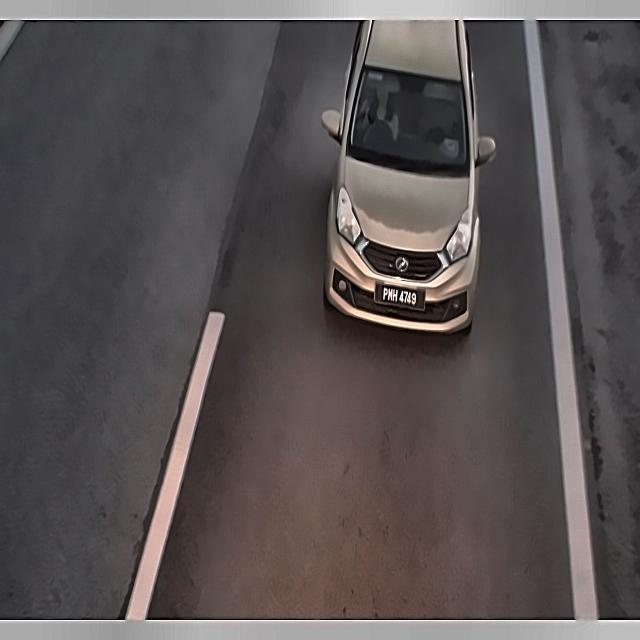car: (373, 274, 424, 311)
